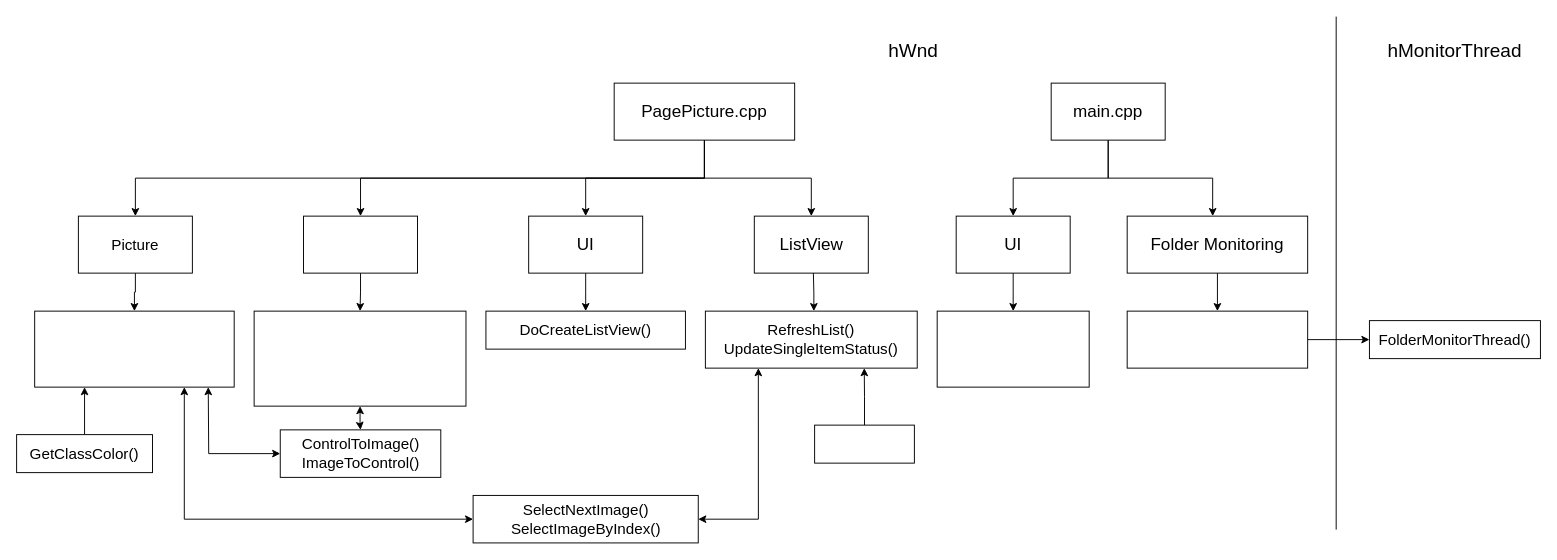
This 1557x560 diagram has some shape labels left out. The box of each missing label's shape, as (x1, y1, x2, y2) in pixels:
DoCreateMenu() DoCreateDialog() IDCForDpi(): (936, 310, 1089, 387)
DoSelectFolder() SaveBBoxesToFile() LoadBBoxesFromFile() LoadImageToDisplay(): (253, 310, 466, 406)
DrawHandles() ClampRect() HitTestHandle(): (34, 310, 234, 387)
Files: (303, 215, 418, 273)
IsImageFile(): (814, 424, 914, 463)
StartFolderMonitor() StopFolderMonitor(): (1126, 310, 1308, 368)
